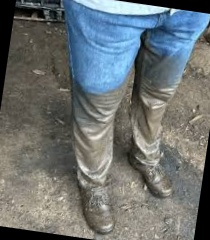earth: (66, 93, 117, 179), (127, 86, 168, 166), (139, 54, 179, 92)
